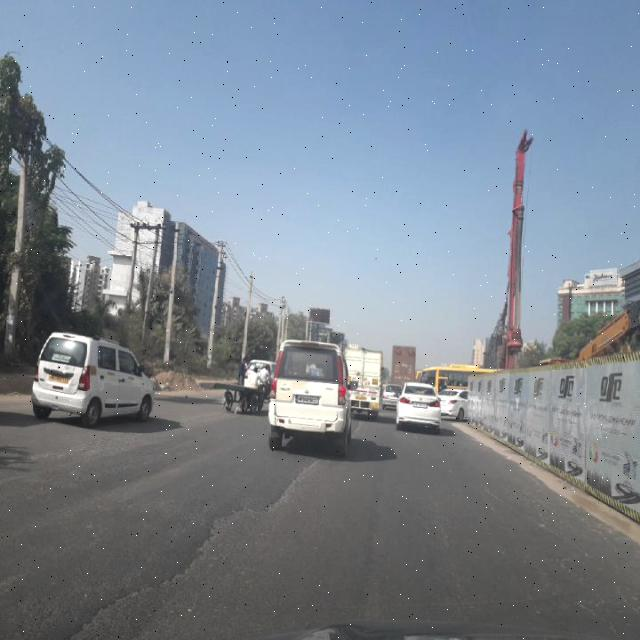D20: (482, 453, 626, 627)
